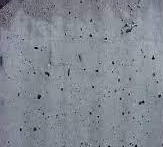Spalling: (1, 1, 163, 147)
